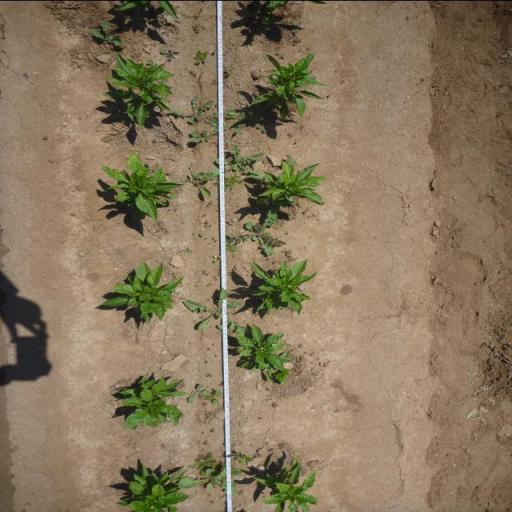plant: (100, 151, 185, 221), (98, 258, 184, 324), (104, 54, 172, 124), (250, 53, 328, 113), (114, 374, 184, 433), (242, 260, 317, 313), (253, 454, 320, 512), (114, 463, 185, 512), (235, 330, 294, 384), (262, 165, 326, 199)
weed: (182, 288, 248, 334), (226, 207, 283, 256), (176, 468, 237, 494), (170, 94, 218, 126), (216, 145, 266, 173), (225, 108, 266, 130), (186, 168, 218, 194), (91, 19, 122, 45), (186, 452, 216, 474), (212, 174, 243, 189), (186, 383, 209, 403), (192, 126, 218, 142), (255, 198, 295, 208), (233, 451, 253, 465), (207, 390, 222, 405), (159, 48, 177, 60), (194, 49, 207, 63), (284, 250, 297, 262), (182, 246, 194, 255), (226, 242, 236, 252), (188, 68, 198, 78), (200, 410, 210, 419), (191, 24, 199, 33), (204, 220, 212, 228), (257, 125, 266, 132), (279, 442, 287, 449), (213, 255, 221, 261), (201, 269, 209, 275), (225, 220, 233, 226), (286, 132, 293, 138), (206, 200, 212, 206), (226, 68, 232, 74), (252, 54, 258, 60), (294, 28, 300, 34), (286, 152, 292, 158), (272, 402, 278, 407), (202, 440, 208, 445), (267, 448, 274, 452), (209, 428, 216, 432), (265, 386, 270, 391), (218, 382, 224, 386), (176, 132, 180, 138), (294, 138, 300, 142), (201, 402, 206, 406), (213, 275, 217, 280), (206, 373, 212, 376), (206, 283, 212, 286), (281, 53, 285, 57), (213, 239, 217, 242), (211, 236, 215, 239), (204, 360, 208, 363), (199, 232, 203, 235), (201, 214, 206, 216), (208, 347, 210, 350)
